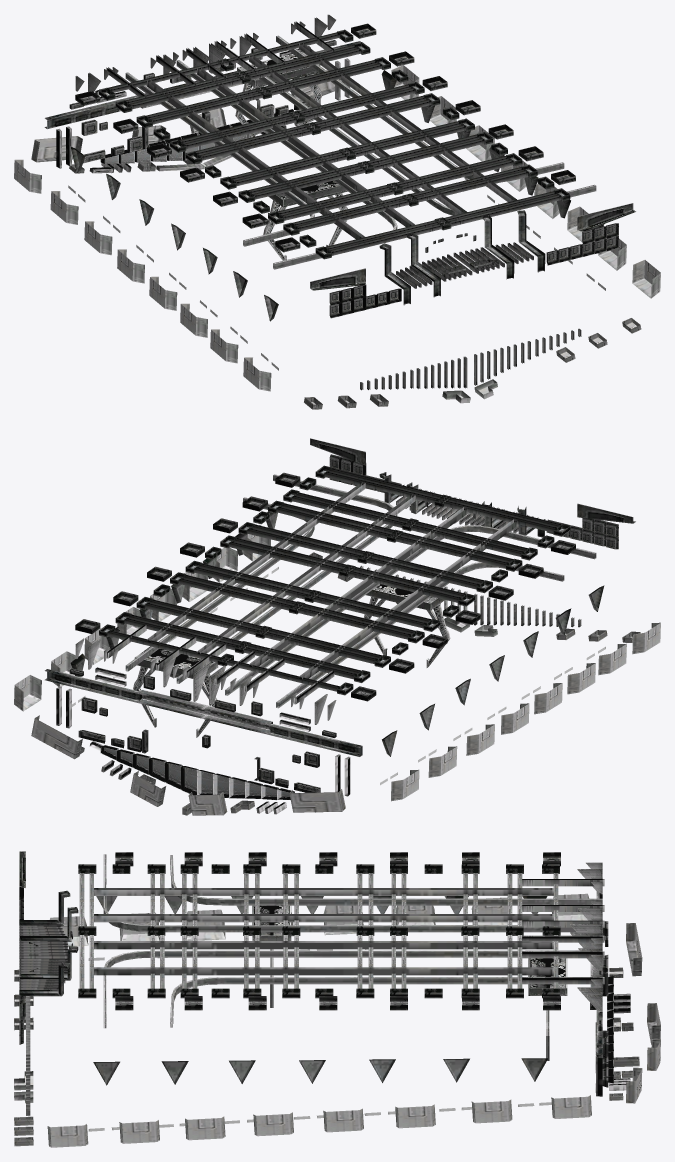
Rendered from star_destroyer_hangar_detail_l0.fbx.
3 views of the same model, one above another, from view 1: azimuth 30°, elevation 25°; view 2: azimuth 150°, elevation 25°; view 3: azimuth 270°, elevation 25° (orthographic). The views are drawn at different scales.
Parts seen in each view (by area): view 1: mesh_node; view 2: mesh_node; view 3: mesh_node.
Boxes of the visible parts, <box> form: mesh_node: <box>14,14,660,409</box>; mesh_node: <box>14,438,660,815</box>; mesh_node: <box>14,851,660,1147</box>.
Size of the model in its own units: 257 by 94.8 by 336.
